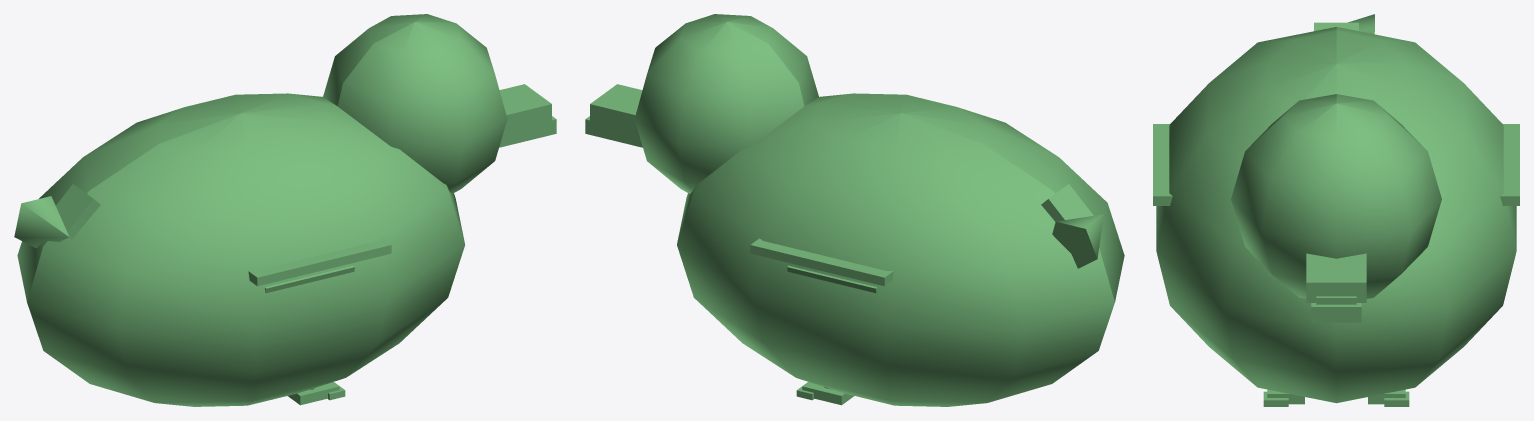
Rendered from duck.glb.
3 renders of one model, left to right at view 1: azimuth 30°, elevation 25°; view 2: azimuth 150°, elevation 25°; view 3: azimuth 270°, elevation 25°, orthographic. The views are drawn at different scales.
Parts seen in each view (by area): view 1: Bird; view 2: Bird; view 3: Bird.
Boxes of the visible parts, x1,y1,x2,y2 form: Bird: (14,14,556,406); Bird: (585,14,1124,406); Bird: (1153,14,1519,406).
Size of the model in its own units: 1 by 0.5999 by 0.5561.
